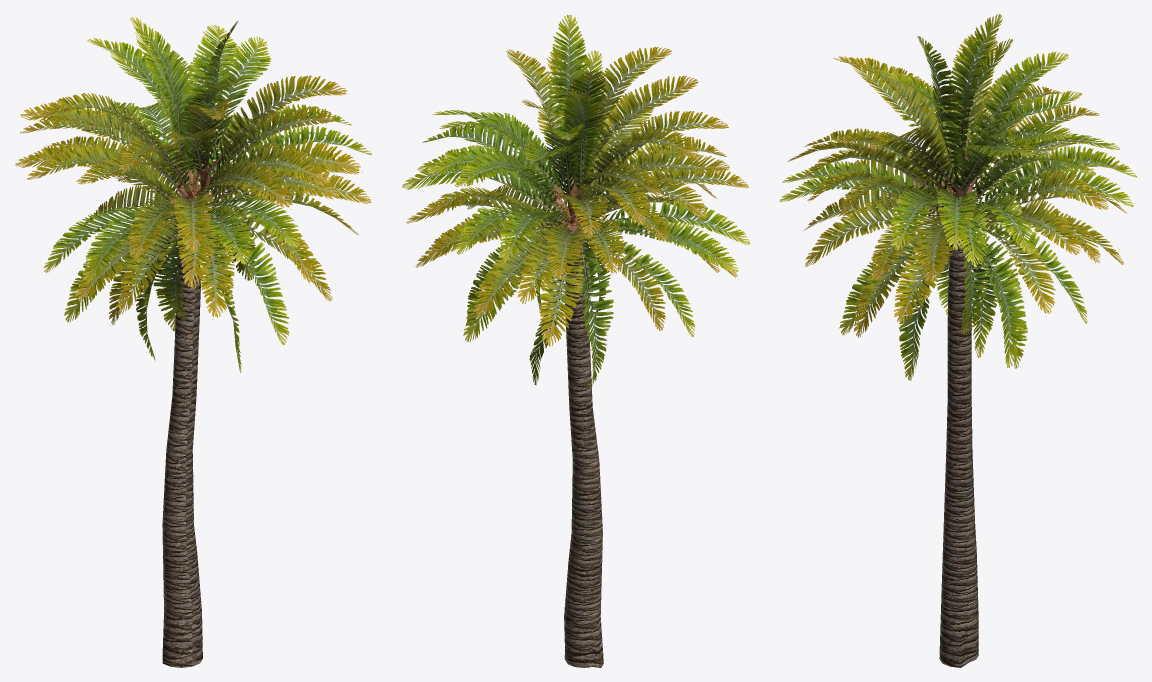
The model's file is palm.glb.
3 views of the same model, side by side, from view 1: azimuth 30°, elevation 25°; view 2: azimuth 150°, elevation 25°; view 3: azimuth 270°, elevation 25° (orthographic). The views are drawn at different scales.
Visible parts, largest first — view 1: palm.001_Palm Hamza_0; view 2: palm.001_Palm Hamza_0; view 3: palm.001_Palm Hamza_0.
Part boxes in pixels (x1,y1,x2,y2): palm.001_Palm Hamza_0: [15, 17, 371, 667]; palm.001_Palm Hamza_0: [402, 14, 750, 667]; palm.001_Palm Hamza_0: [779, 14, 1137, 667].
Size of the model in its own units: 3.69 by 7.16 by 3.63.
1 material, 1 textured.
